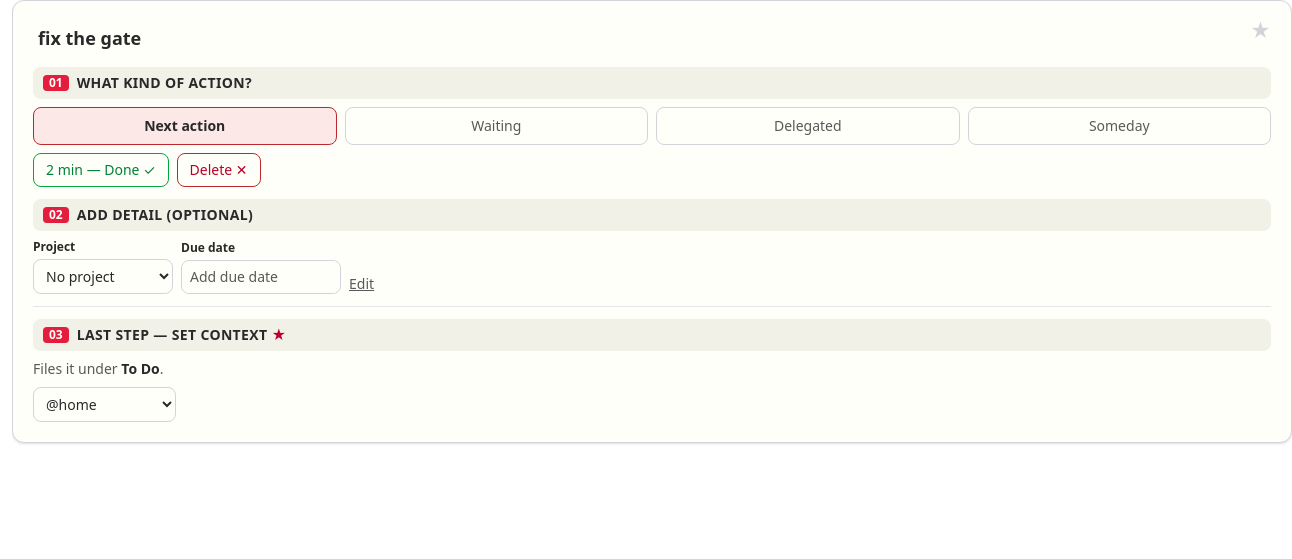
Test: filing an inbox item under a context › says it is still filed — not still marked done — when the revert is rejected
The image size is (1292, 559).
Select "@home" in the dropdown named "Set context and file this todo": (104, 404) x1=33 y1=387 x2=176 y2=422
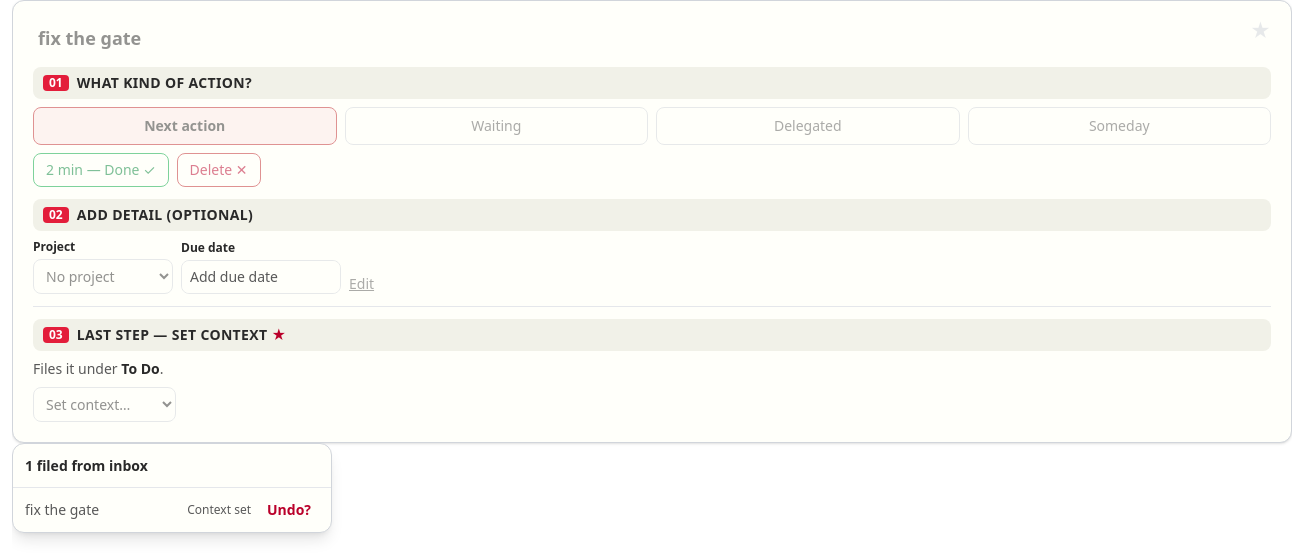
Click the button "Undo?": click(289, 510) x1=259 y1=496 x2=319 y2=524
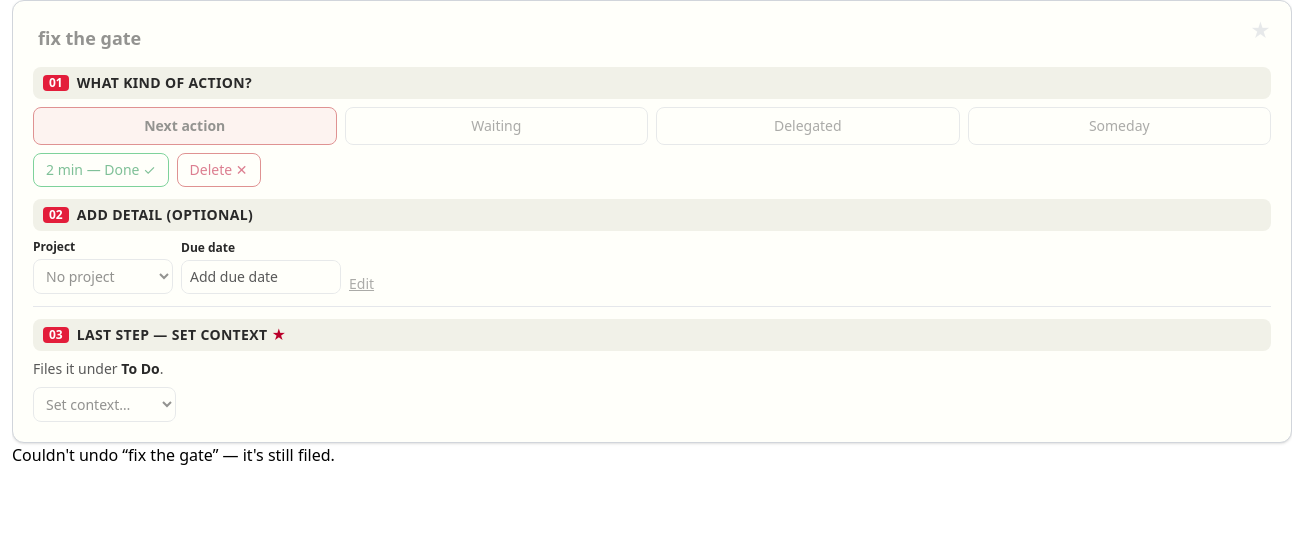
Expected: the text "it's still filed" is shown, x1=12 y1=444 x2=335 y2=466
